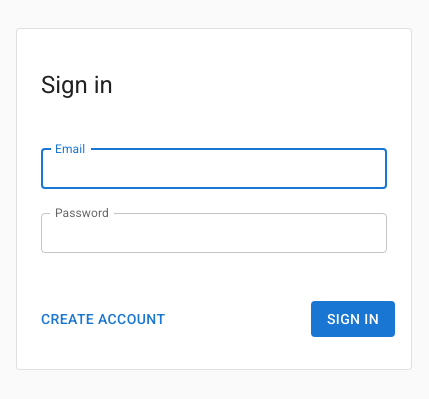
Test: Navigation › should display validation error for empty password
Type "test@example.com" into the field named "email" at (214, 169), box [41,149,387,189]
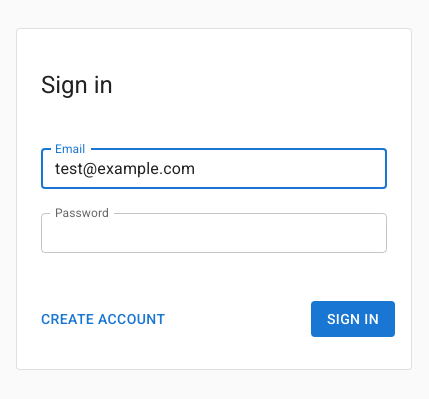
Click the submit button at (353, 320), box [311,301,395,338]
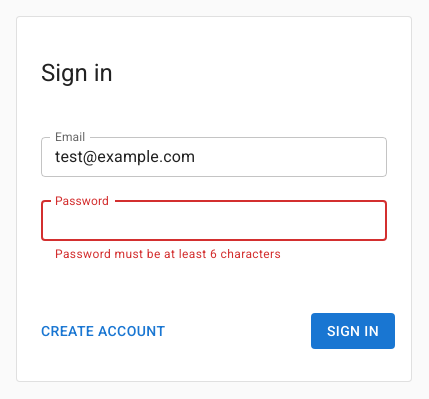
Expected: the text "Password must be at least 6 characters" is shown, [55,247,281,261]
